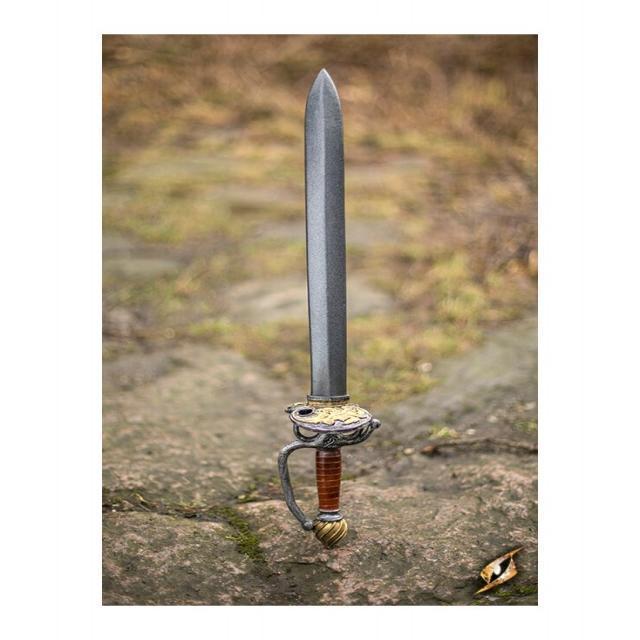short sword: (272, 59, 394, 554)
